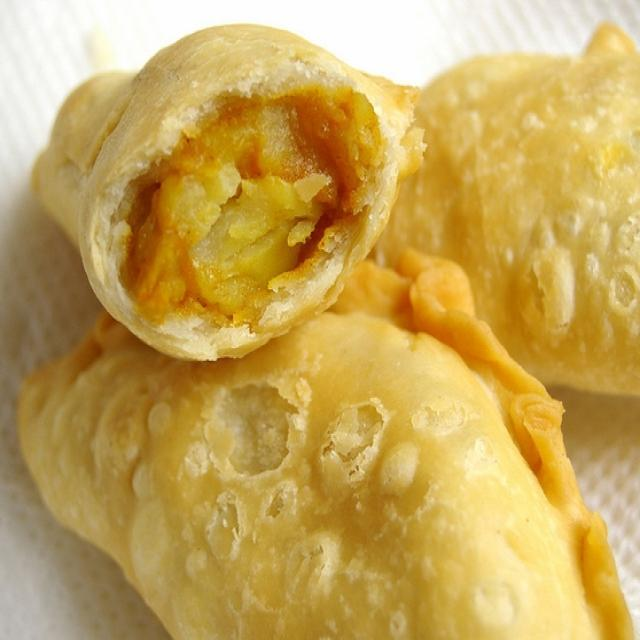炸货点心: (38, 34, 546, 637)
